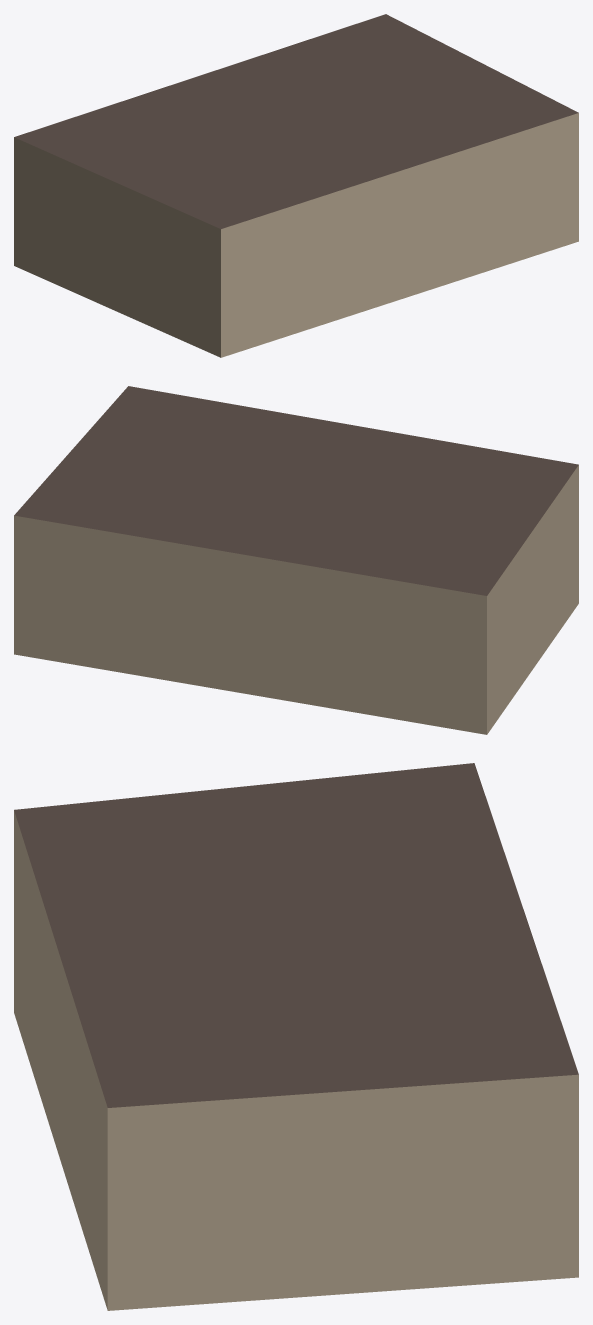
3 renders of one model, top to bottom at view 1: azimuth 30°, elevation 25°; view 2: azimuth 150°, elevation 25°; view 3: azimuth 270°, elevation 25°, orthographic. The views are drawn at different scales.
Visible parts, largest first — view 1: HP-w1512914156; view 2: HP-w1512914156; view 3: HP-w1512914156.
Part boxes in pixels (<box>): HP-w1512914156: <box>14,14,578,357</box>; HP-w1512914156: <box>14,386,578,734</box>; HP-w1512914156: <box>14,763,578,1310</box>.
Size of the model in its own units: 32.84 by 9 by 22.72.
